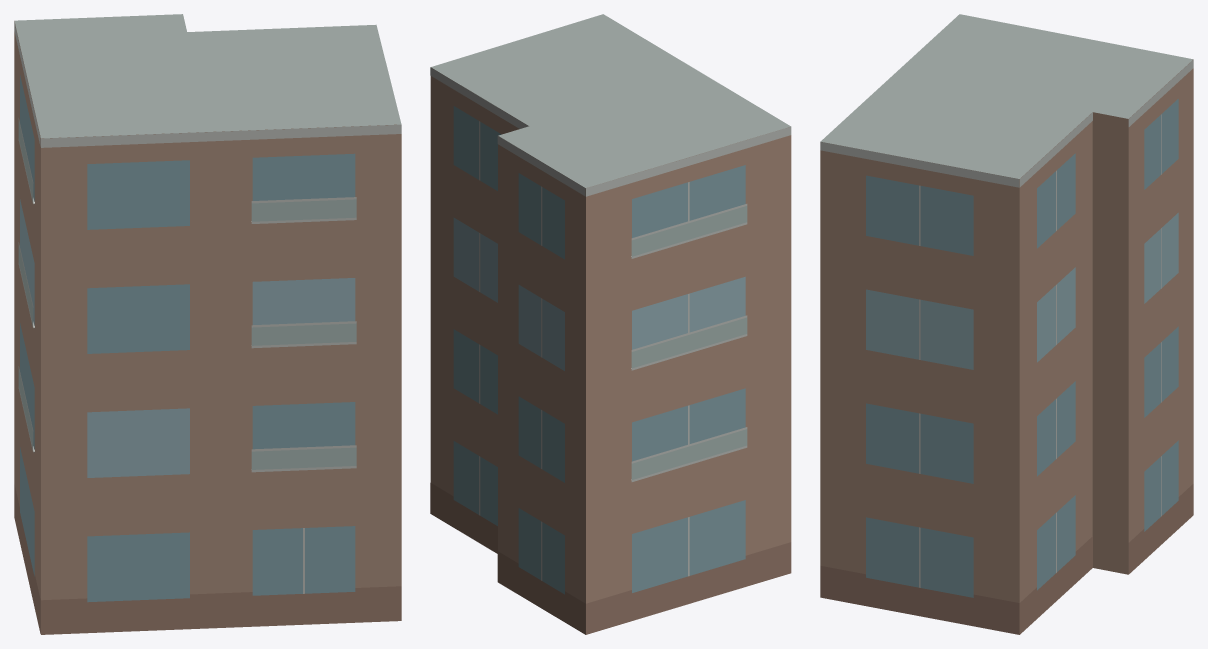
File: survey-upis-32978056.glb
3 views of the same model, side by side, from view 1: azimuth 30°, elevation 25°; view 2: azimuth 150°, elevation 25°; view 3: azimuth 270°, elevation 25° (orthographic). The views are drawn at different scales.
Parts seen in each view (by area): view 1: survey-upis-32978056.tmp; view 2: survey-upis-32978056.tmp; view 3: survey-upis-32978056.tmp.
Part boxes in pixels (box(x1,y1,x2,y2)): survey-upis-32978056.tmp: box(14, 14, 401, 634); survey-upis-32978056.tmp: box(430, 14, 791, 634); survey-upis-32978056.tmp: box(820, 14, 1193, 634).
Size of the model in its own units: 9.95 by 12.8 by 9.51.
